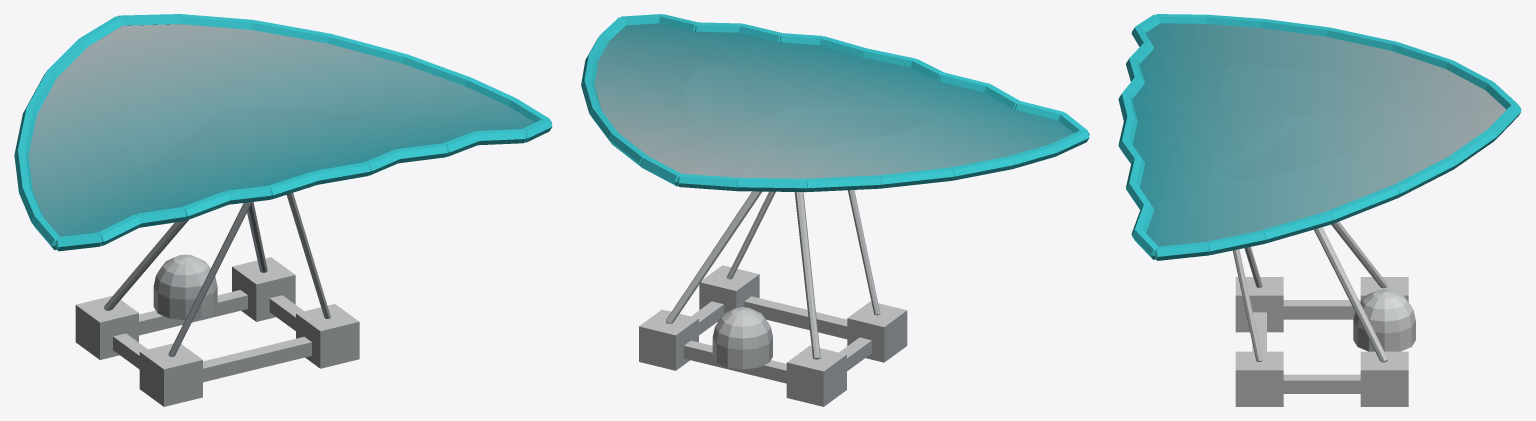
Rendered from glider.glb.
The picture shows the model from 3 angles, left to right: view 1: azimuth 30°, elevation 25°; view 2: azimuth 150°, elevation 25°; view 3: azimuth 270°, elevation 25°; orthographic projection. The views are drawn at different scales.
Visible parts, largest first — view 1: Wing, PodFrame, WingRim, AFrame, Pod; view 2: Wing, PodFrame, WingRim, AFrame, Pod; view 3: Wing, WingRim, PodFrame, AFrame, Pod.
Part boxes in pixels (x1=…): Wing: x1=28, y1=24, x2=534, y2=236; PodFrame: x1=75, y1=257, x2=359, y2=406; WingRim: x1=14, y1=14, x2=552, y2=251; AFrame: x1=104, y1=193, x2=330, y2=356; Pod: x1=153, y1=254, x2=217, y2=320; Wing: x1=594, y1=23, x2=1073, y2=178; PodFrame: x1=639, y1=265, x2=907, y2=406; WingRim: x1=581, y1=14, x2=1089, y2=192; AFrame: x1=666, y1=190, x2=880, y2=359; Pod: x1=712, y1=307, x2=772, y2=369; Wing: x1=1132, y1=23, x2=1506, y2=246; WingRim: x1=1118, y1=14, x2=1521, y2=260; PodFrame: x1=1235, y1=277, x2=1408, y2=406; AFrame: x1=1233, y1=221, x2=1387, y2=362; Pod: x1=1353, y1=289, x2=1415, y2=351.
Size of the model in its own units: 3.08 by 1.53 by 2.19.
